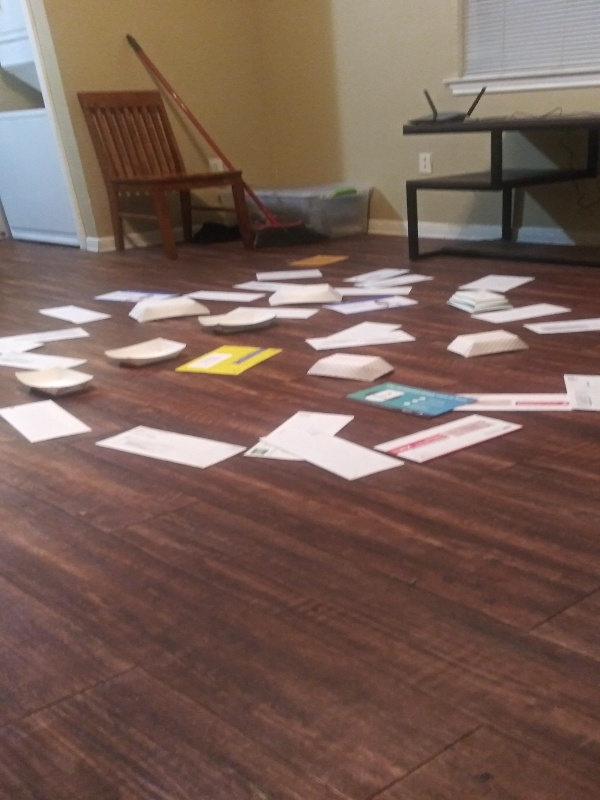plate: (300, 349, 398, 385), (100, 334, 194, 371), (11, 363, 100, 401), (441, 326, 532, 360), (124, 296, 214, 326), (195, 306, 282, 335), (265, 281, 347, 309), (444, 286, 518, 317)
